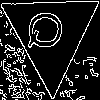Q: (26, 9, 70, 50)
